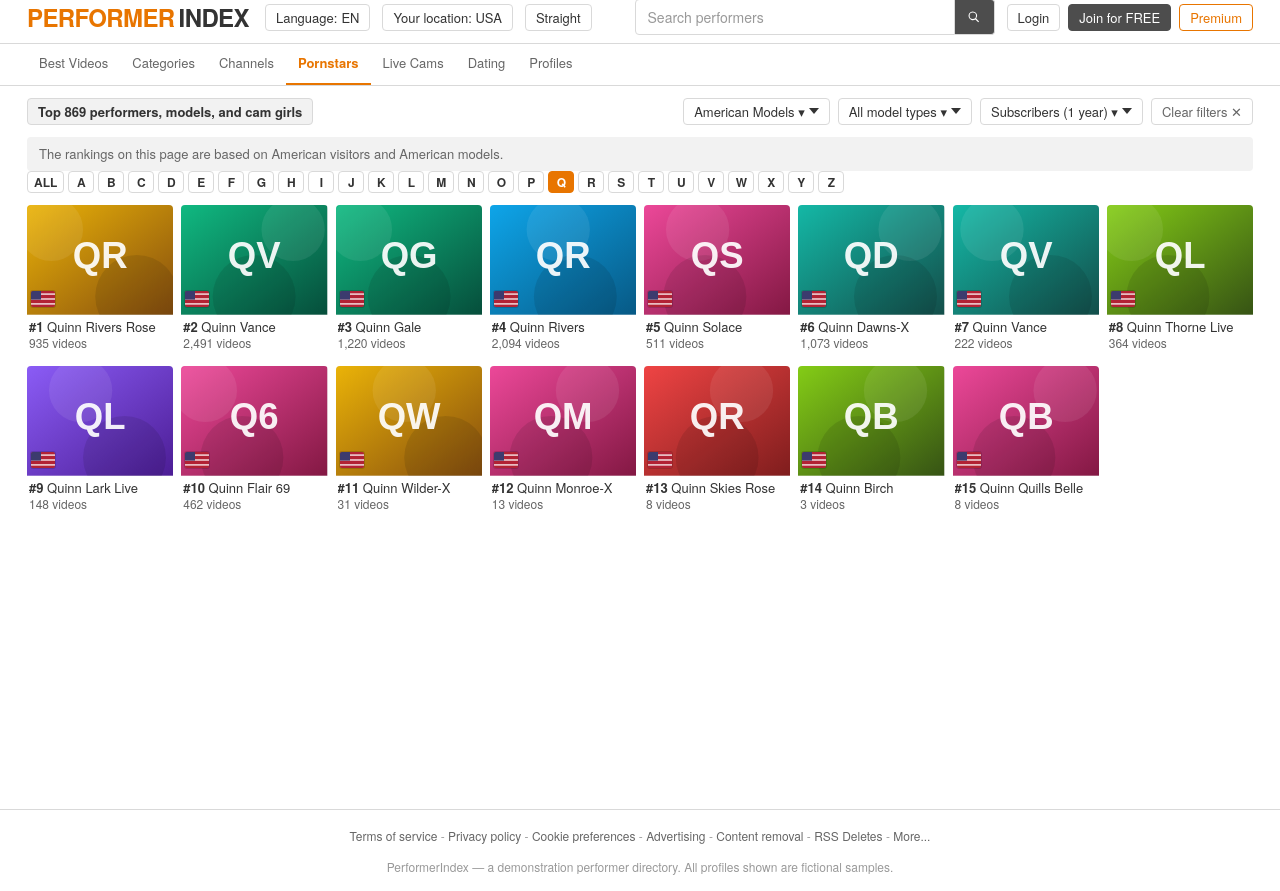
Test: navigation › card links open the profile page and offer a way back
Click the link "Quinn Rivers Rose": (102, 326) [47,317,156,336]
(page scrolled)
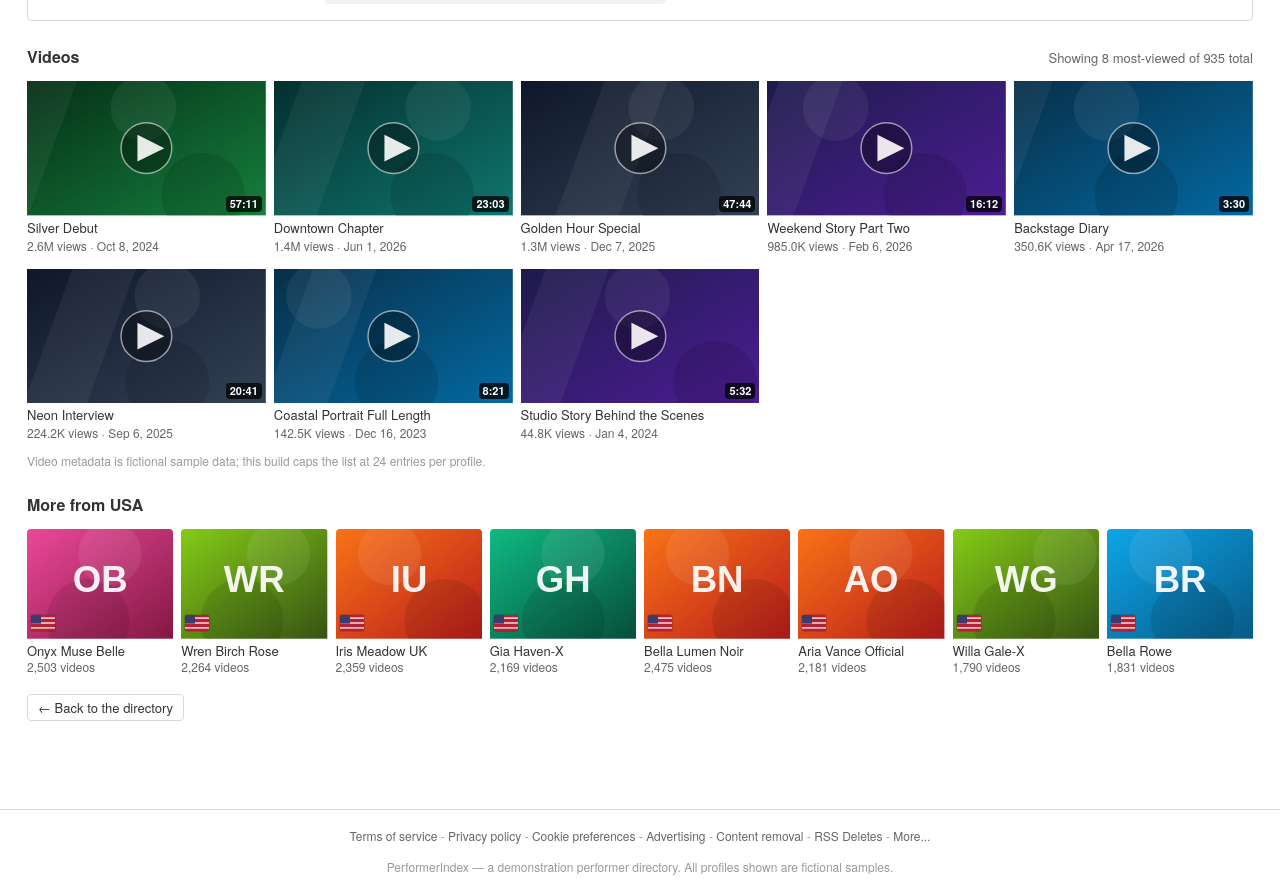
Now the link "← Back to the directory" is shown, box [27,694,184,721]
